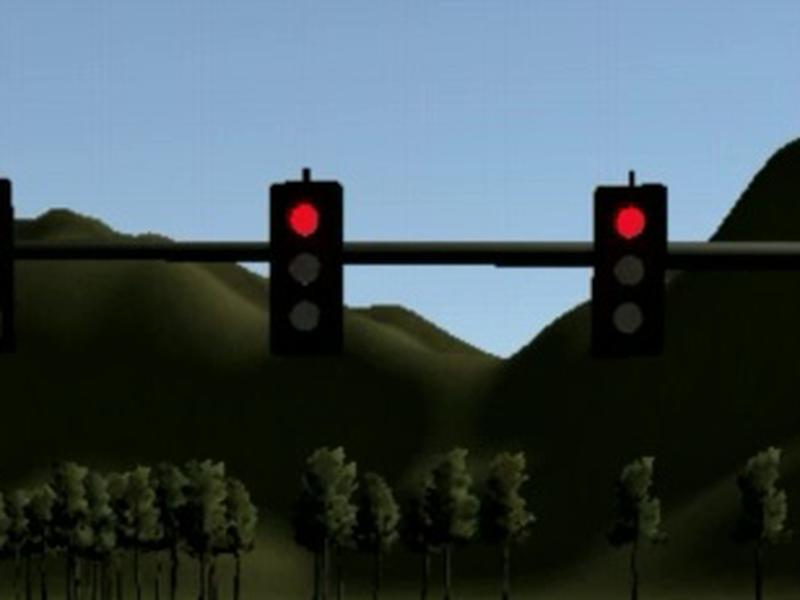Red: (267, 180, 346, 358), (592, 183, 670, 353)
